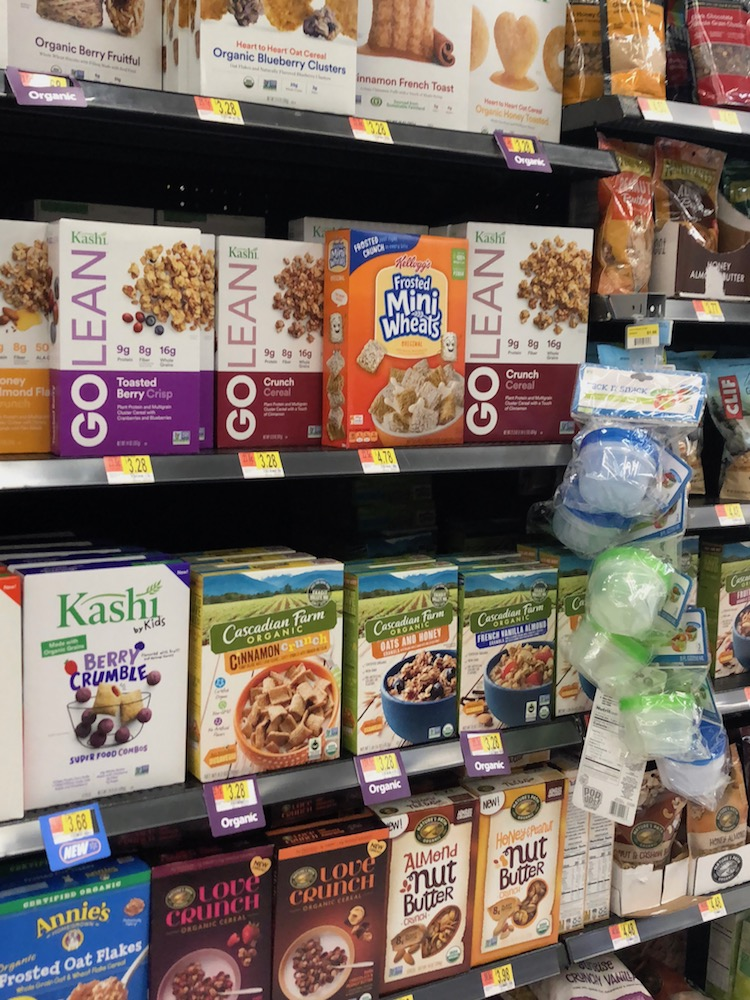Frosted Mini Original -9295869: (328, 234, 473, 452)
